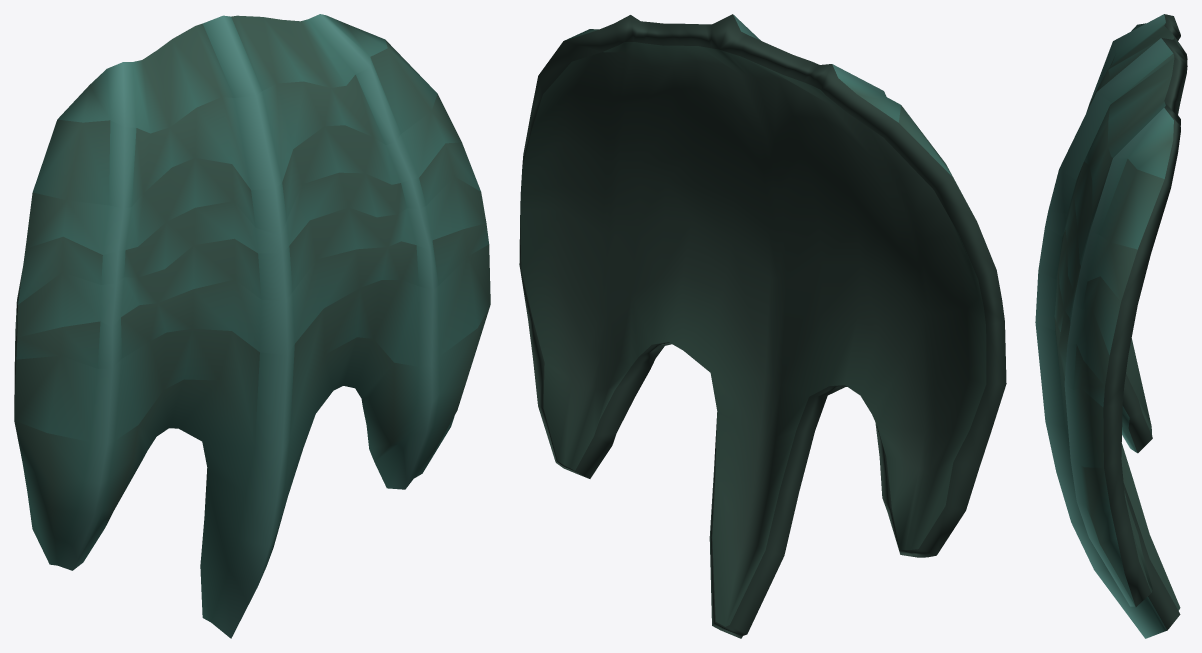
Rendered from microscopic-pollen-spores-furrowed-pollen_v3.fbx.
3 views of the same model, side by side, from view 1: azimuth 30°, elevation 25°; view 2: azimuth 150°, elevation 25°; view 3: azimuth 270°, elevation 25° (orthographic). The views are drawn at different scales.
Visible parts, largest first — view 1: Furrowed Pollen_v3; view 2: Furrowed Pollen_v3; view 3: Furrowed Pollen_v3.
Boxes of the visible parts, x1=… form: Furrowed Pollen_v3: x1=14, y1=14, x2=490, y2=638; Furrowed Pollen_v3: x1=519, y1=14, x2=1006, y2=638; Furrowed Pollen_v3: x1=1035, y1=14, x2=1187, y2=638.
Bounding box in the file's own units: 0.3231 × 0.4 × 0.0917.
